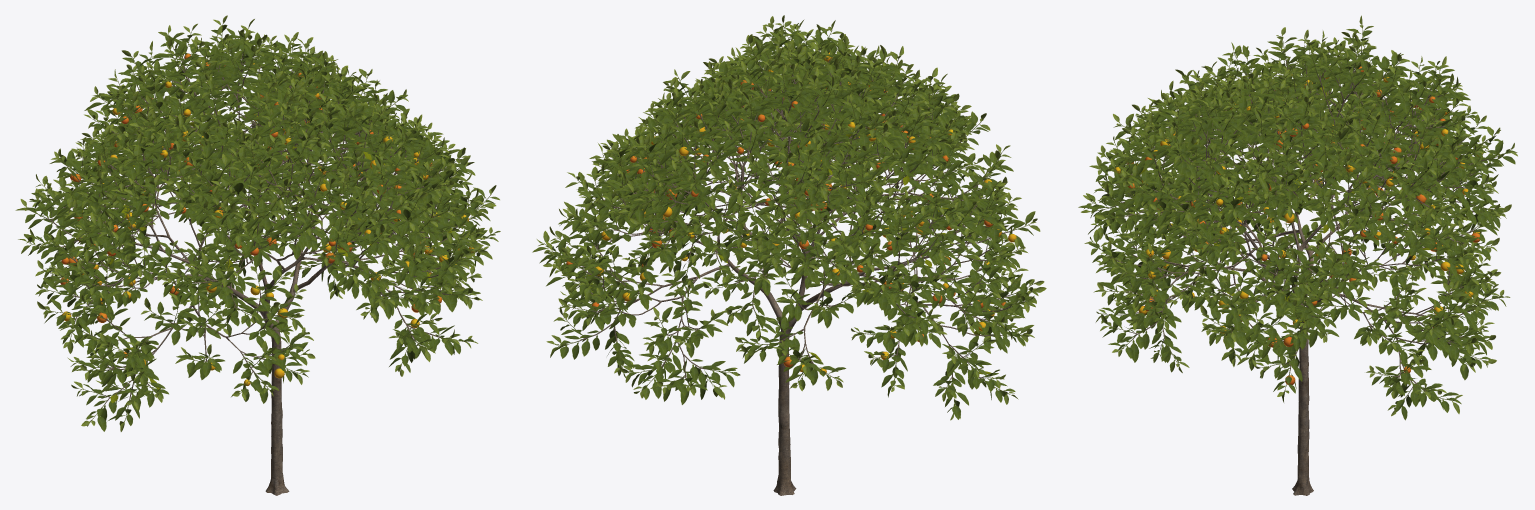
Rendered from sour_orange.glb.
The picture shows the model from 3 angles, left to right: view 1: azimuth 30°, elevation 25°; view 2: azimuth 150°, elevation 25°; view 3: azimuth 270°, elevation 25°; orthographic projection. The views are drawn at different scales.
Visible parts, largest first — view 1: Citrus_x_aurantium_HD; view 2: Citrus_x_aurantium_HD; view 3: Citrus_x_aurantium_HD.
Part boxes in pixels (<box>): Citrus_x_aurantium_HD: <box>15,15,500,495</box>; Citrus_x_aurantium_HD: <box>532,15,1046,495</box>; Citrus_x_aurantium_HD: <box>1078,15,1517,495</box>.
Size of the model in its own units: 2.15 by 2.2 by 2.01.
11 materials, 11 textured.
